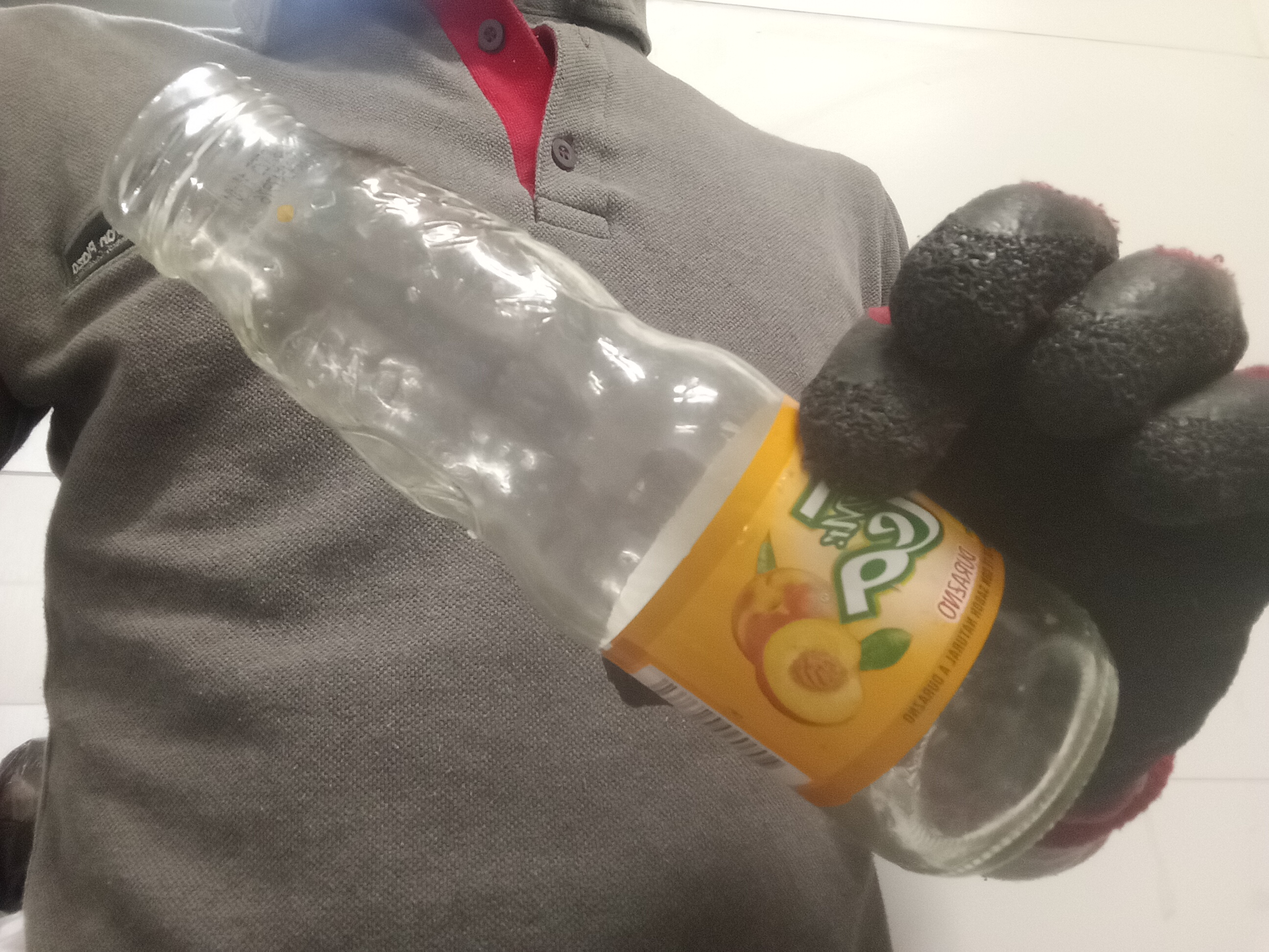Vidrio: (96, 64, 1120, 878)
